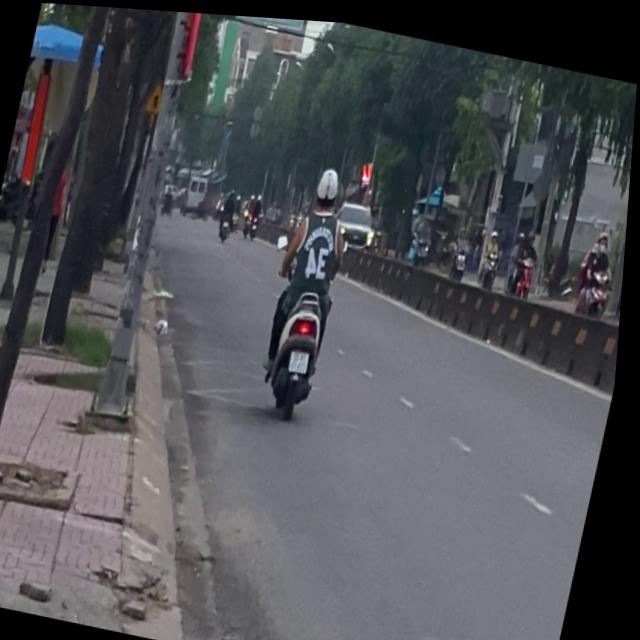helmet: (315, 160, 347, 207)
licenseplate: (255, 155, 367, 422)
nohelmet: (294, 345, 316, 369)
